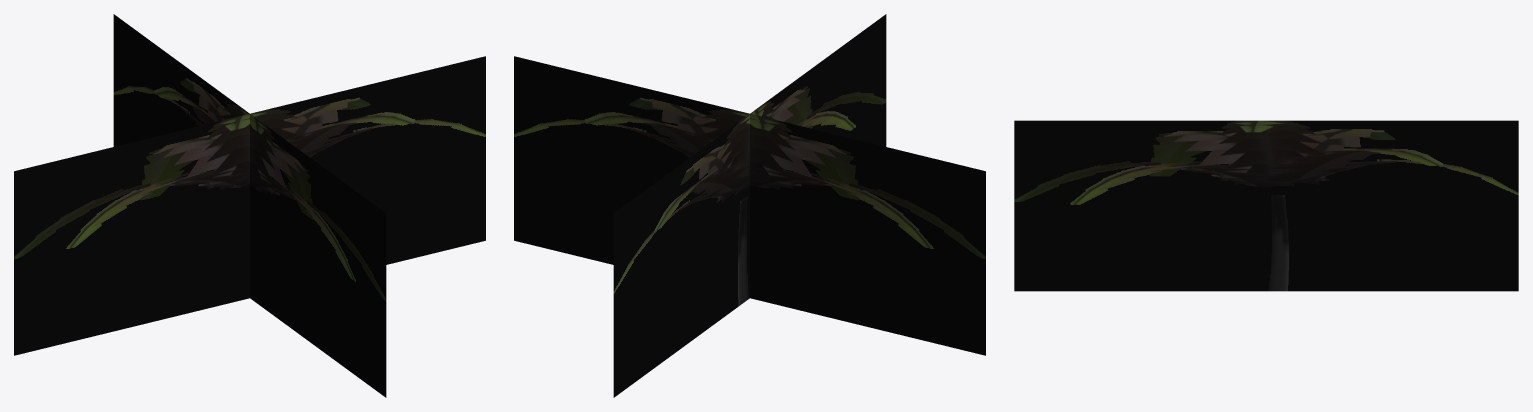
Rendered from palm_sapling_a_card.glb.
The picture shows the model from 3 angles, left to right: view 1: azimuth 30°, elevation 25°; view 2: azimuth 150°, elevation 25°; view 3: azimuth 270°, elevation 25°; orthographic projection. The views are drawn at different scales.
Parts seen in each view (by area): view 1: palm_sapling_a_card; view 2: palm_sapling_a_card; view 3: palm_sapling_a_card.
Boxes of the visible parts, x1,y1,x2,y2 form: palm_sapling_a_card: (14, 14, 485, 397); palm_sapling_a_card: (514, 14, 985, 397); palm_sapling_a_card: (1014, 120, 1518, 291).
Bounding box in the file's own units: 2.4 × 0.8959 × 2.4.
1 material, 1 textured.
